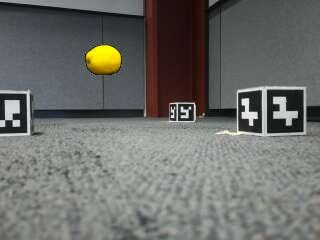lemon: (86, 45, 121, 74)
